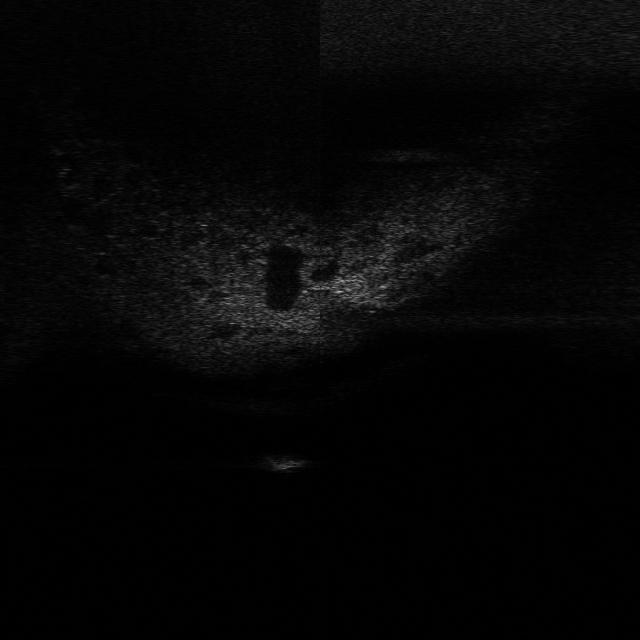cube: (252, 448, 312, 476)
